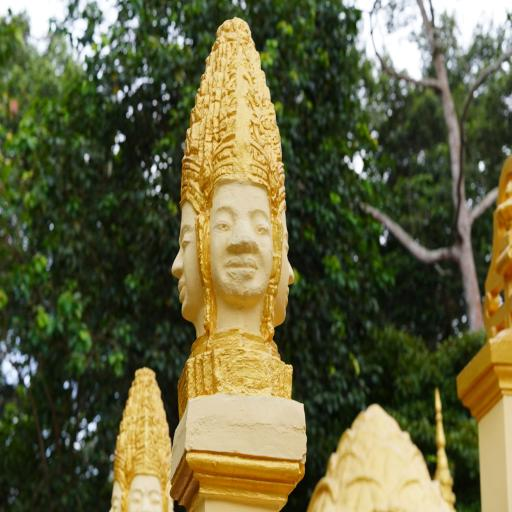than: (157, 17, 327, 411), (300, 399, 464, 512), (106, 359, 182, 512)
